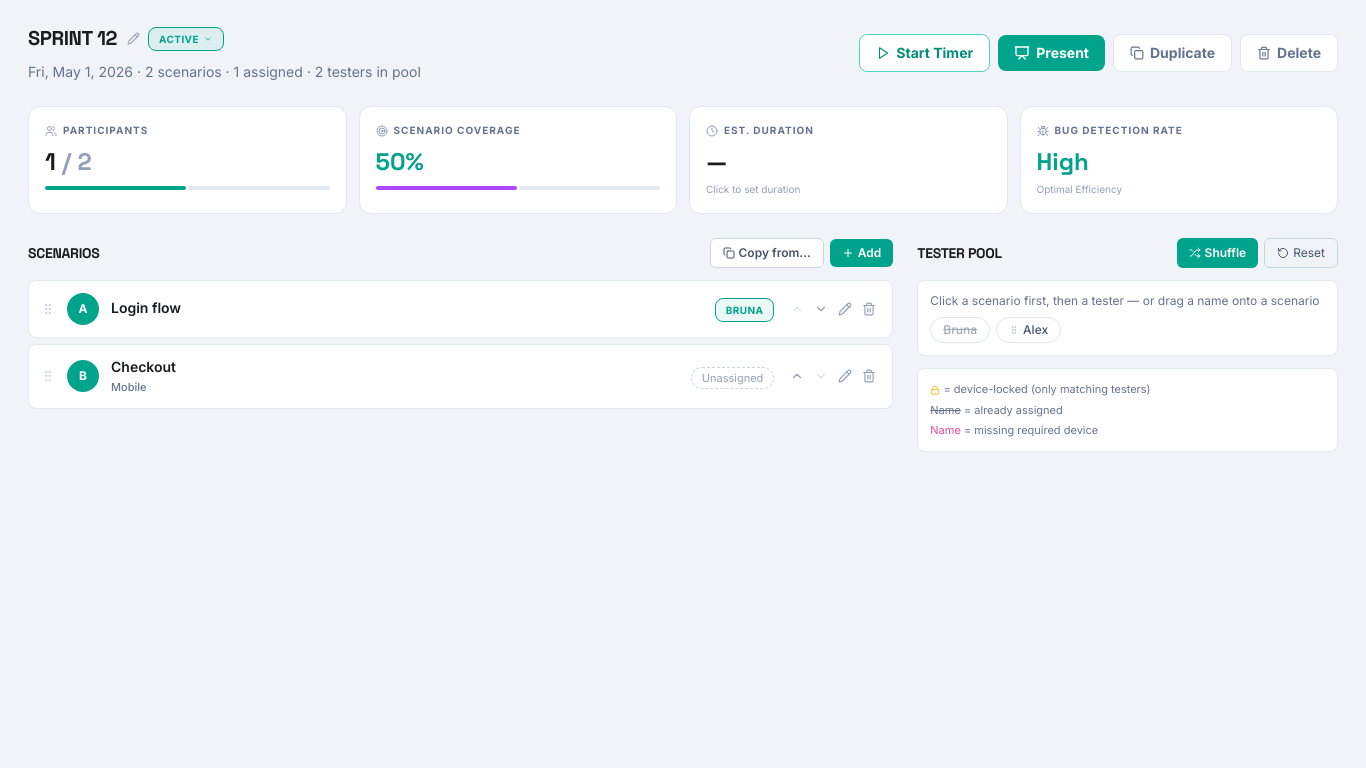
Test: SessionSetupPage › cancel closes delete confirm modal
Expected: the heading "Sprint 12" is shown, [28, 24, 117, 52]
What coordinates should you click on to do the following:
click the button "Delete"
I would click on:
 (1289, 53)
Its box is [1240, 34, 1338, 72].
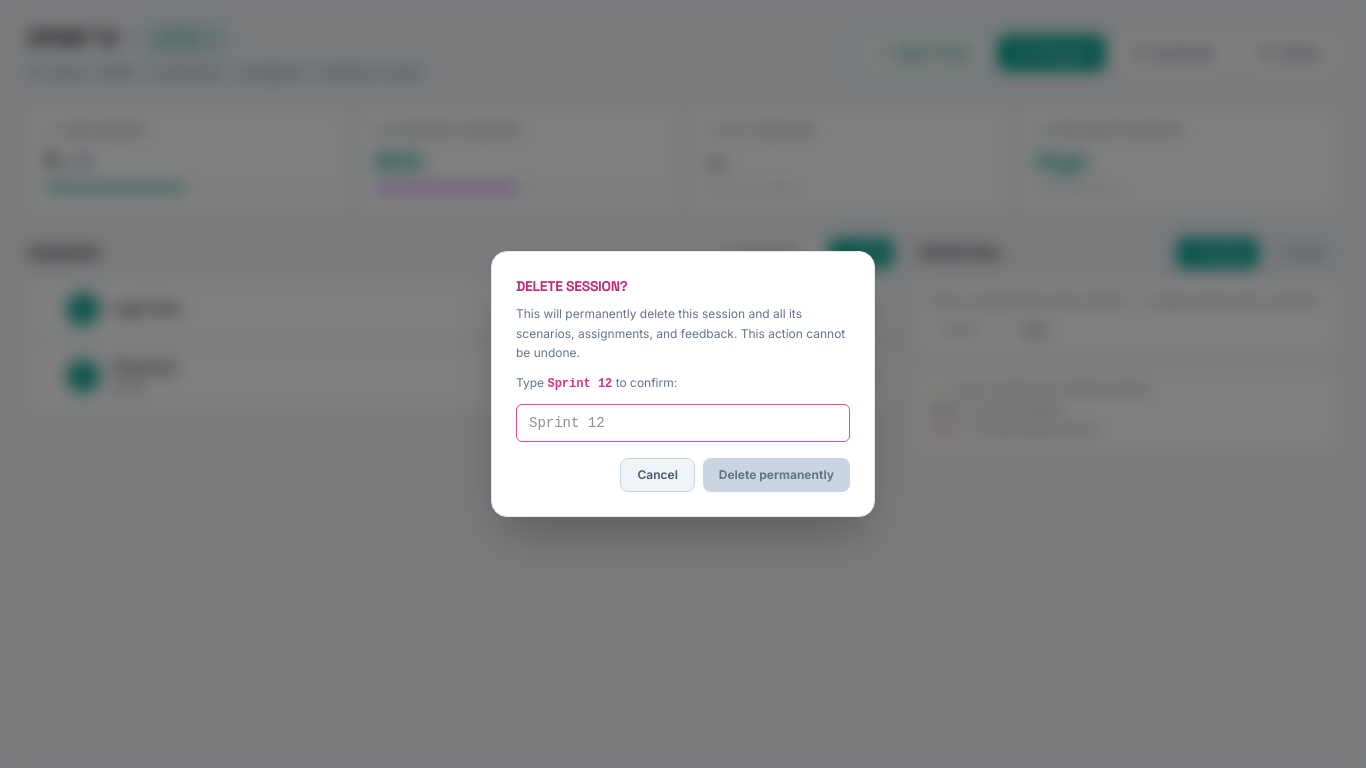
Result: the heading "Delete session?" is shown at [516, 277, 628, 295]
What coordinates should you click on to do the following:
click the button "Cancel"
I would click on:
 (658, 475)
Its box is [620, 458, 695, 492].
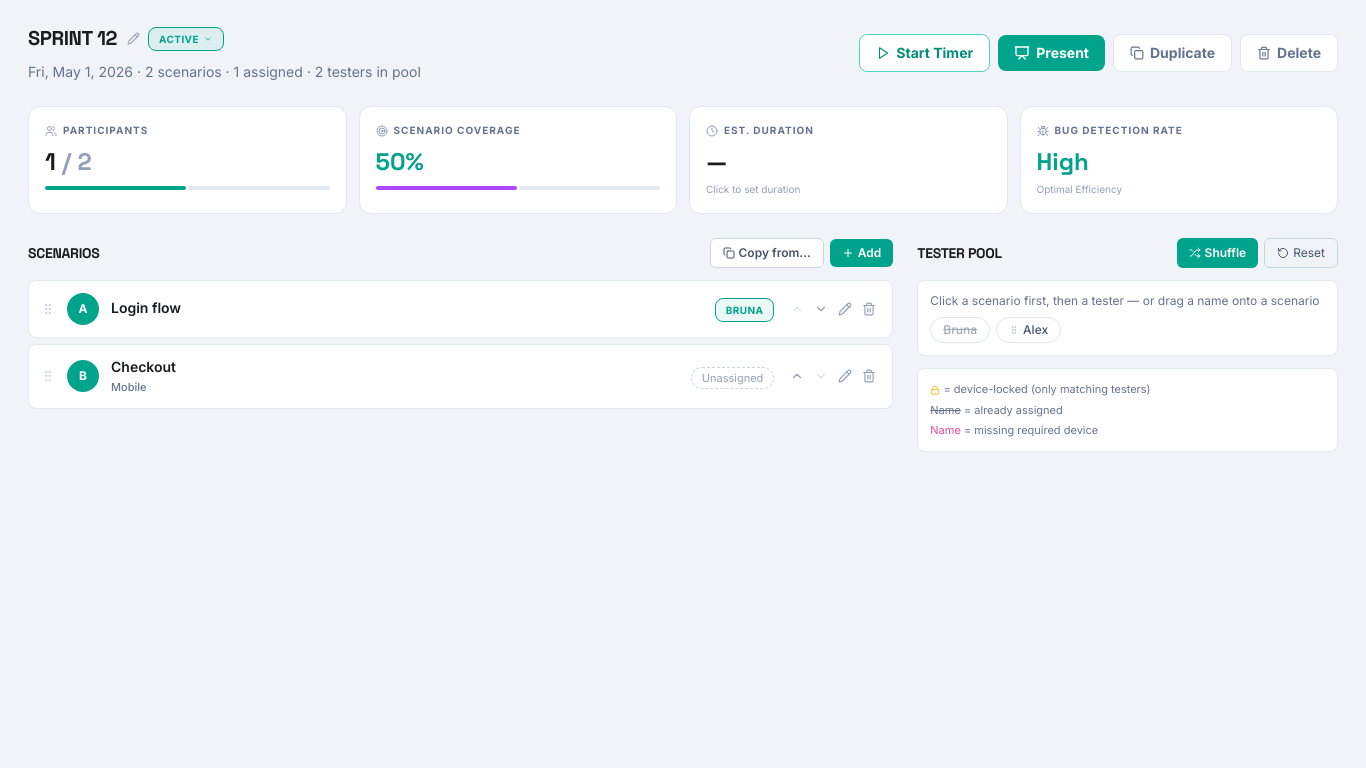
Result: the heading "Delete session?" is gone
